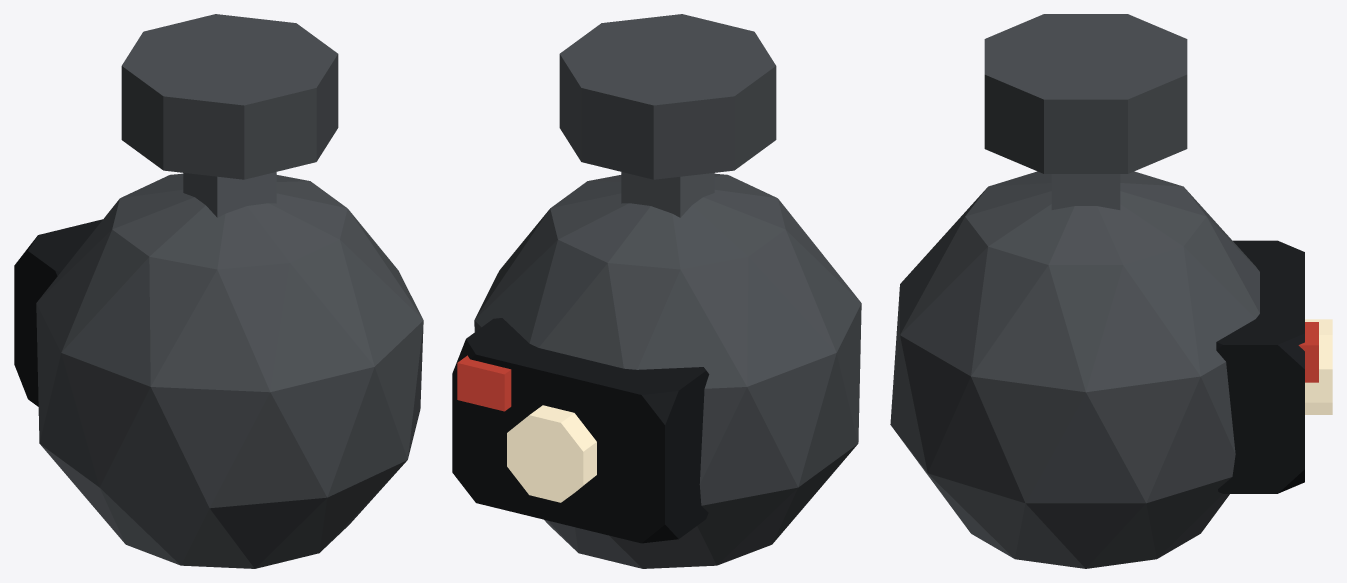
File: mod_sen_gimbal_cam.glb
The picture shows the model from 3 angles, left to right: view 1: azimuth 30°, elevation 25°; view 2: azimuth 150°, elevation 25°; view 3: azimuth 270°, elevation 25°; orthographic projection.
Parts seen in each view (by area): view 1: gimbal_ball, mount; view 2: gimbal_ball, mount; view 3: gimbal_ball, mount.
Part boxes in pixels (x1,y1,x2,y2): gimbal_ball: (14,173,423,568); mount: (121,14,338,217); gimbal_ball: (452,173,861,568); mount: (559,14,776,217); gimbal_ball: (890,171,1332,568); mount: (984,14,1187,209).
Bounding box in the file's own units: 0.2853 × 0.4 × 0.3227.
2 materials, 2 textured.
